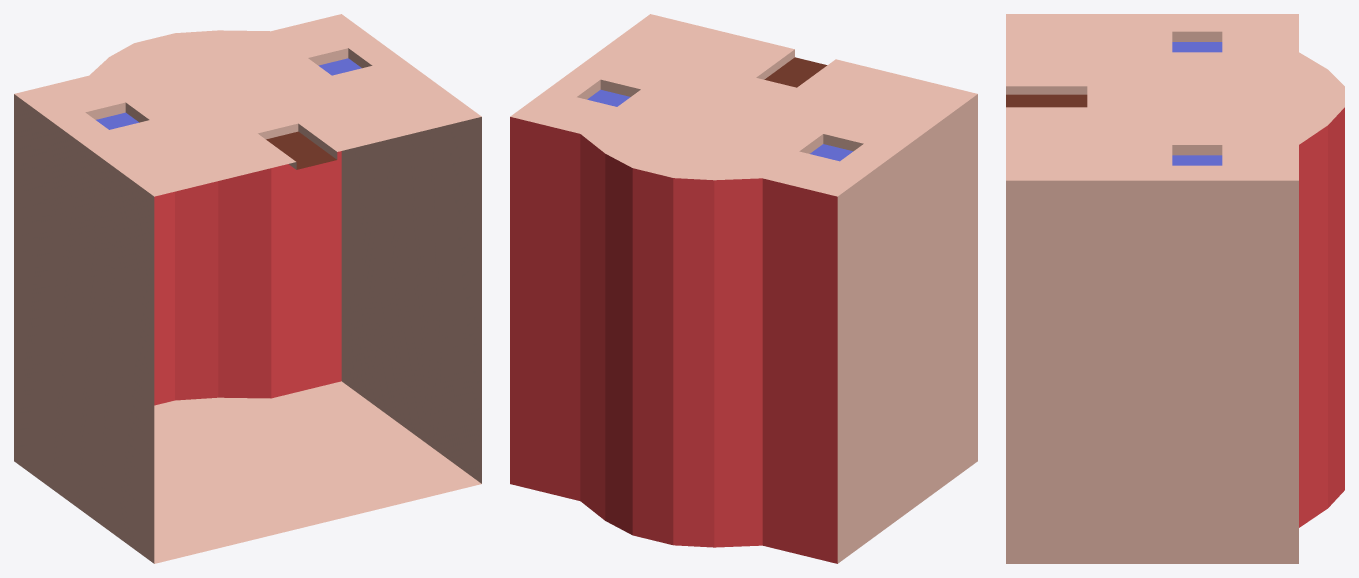
Rendered from smallHouse.fbx.
3 renders of one model, left to right at view 1: azimuth 30°, elevation 25°; view 2: azimuth 150°, elevation 25°; view 3: azimuth 270°, elevation 25°, orthographic. The views are drawn at different scales.
Visible parts, largest first — view 1: shotHouse; view 2: shotHouse; view 3: shotHouse.
Boxes of the visible parts, x1,y1,x2,y2 form: shotHouse: (14, 14, 481, 563); shotHouse: (510, 14, 977, 563); shotHouse: (1006, 14, 1344, 563).
Bounding box in the file's own units: 269 × 289 × 231.
